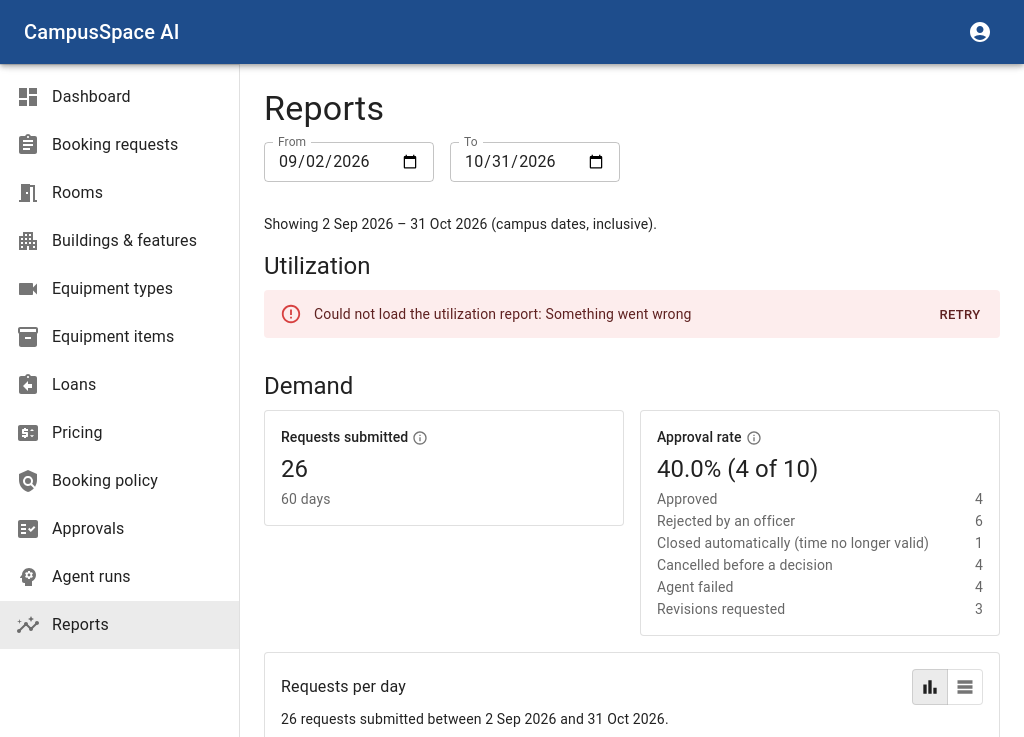
Reports page › shows an error with Retry for a report that fails
The width and height of the screenshot is (1024, 737).
Check: the text "Could not load the utilization report: Something went wrong" is shown, box [314,306,692,322]
Check: the text "40.0% (4 of 10)" is shown, box [657,455,818,483]
Click the button "Retry" at coordinates (960, 315), box [928,300,992,331]
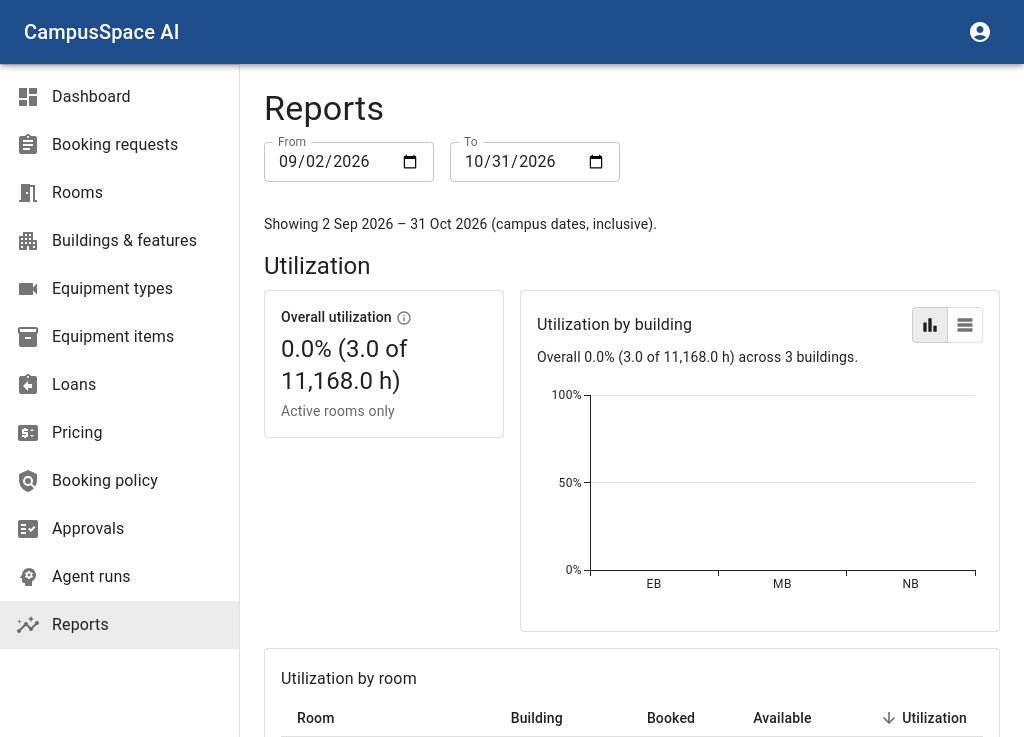
Check: the element "Overall utilization" is shown, box [264,290,504,438]
